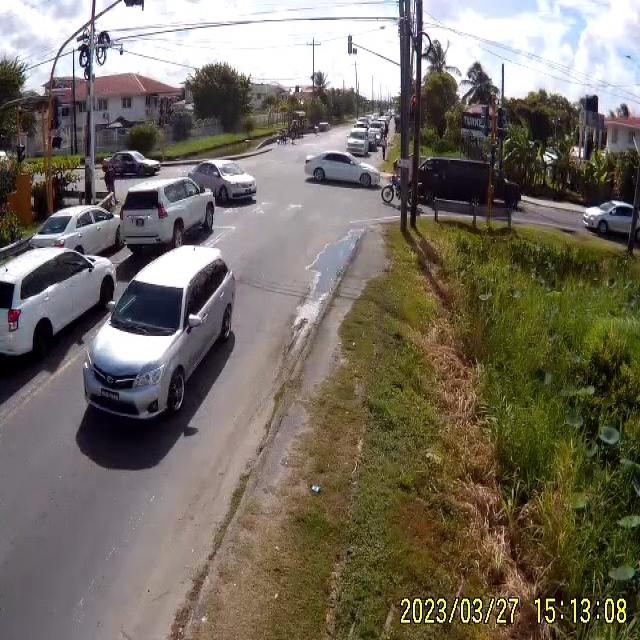car: (79, 244, 239, 420), (1, 243, 118, 374), (118, 175, 216, 250), (31, 205, 126, 256), (411, 155, 491, 209), (188, 158, 256, 206), (304, 152, 385, 188), (582, 201, 636, 239), (104, 150, 160, 178), (345, 128, 368, 154)
